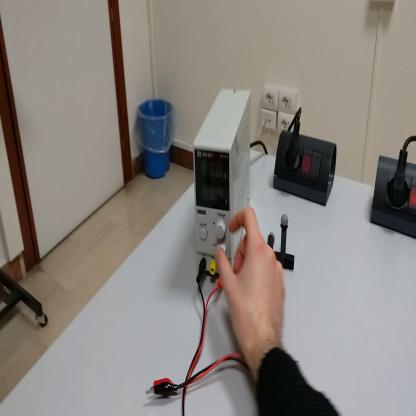hand: (216, 207, 290, 365)
power supply: (193, 84, 253, 275)
socket: (274, 129, 339, 210), (372, 155, 416, 240)
